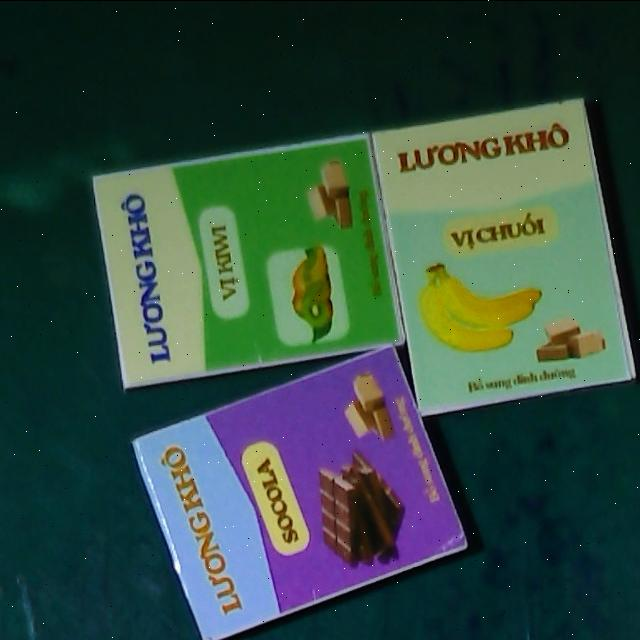chuoi: (368, 94, 635, 417)
kiwi: (92, 132, 404, 386)
socola: (128, 342, 470, 640)
